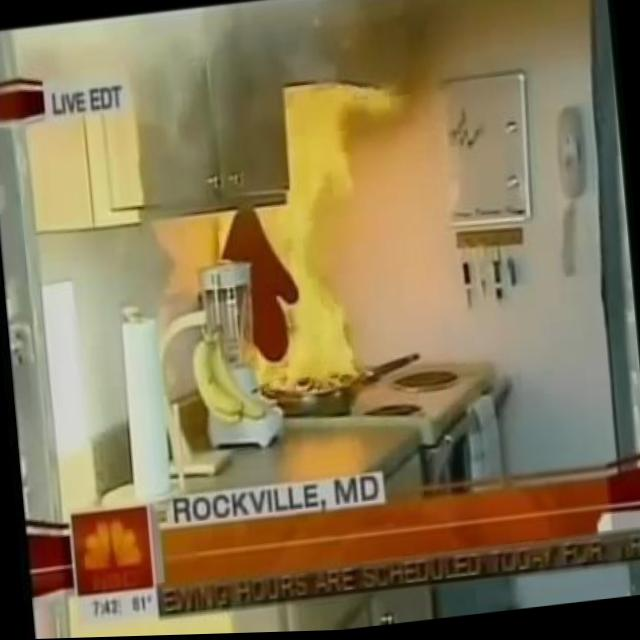fire: (238, 109, 368, 399)
